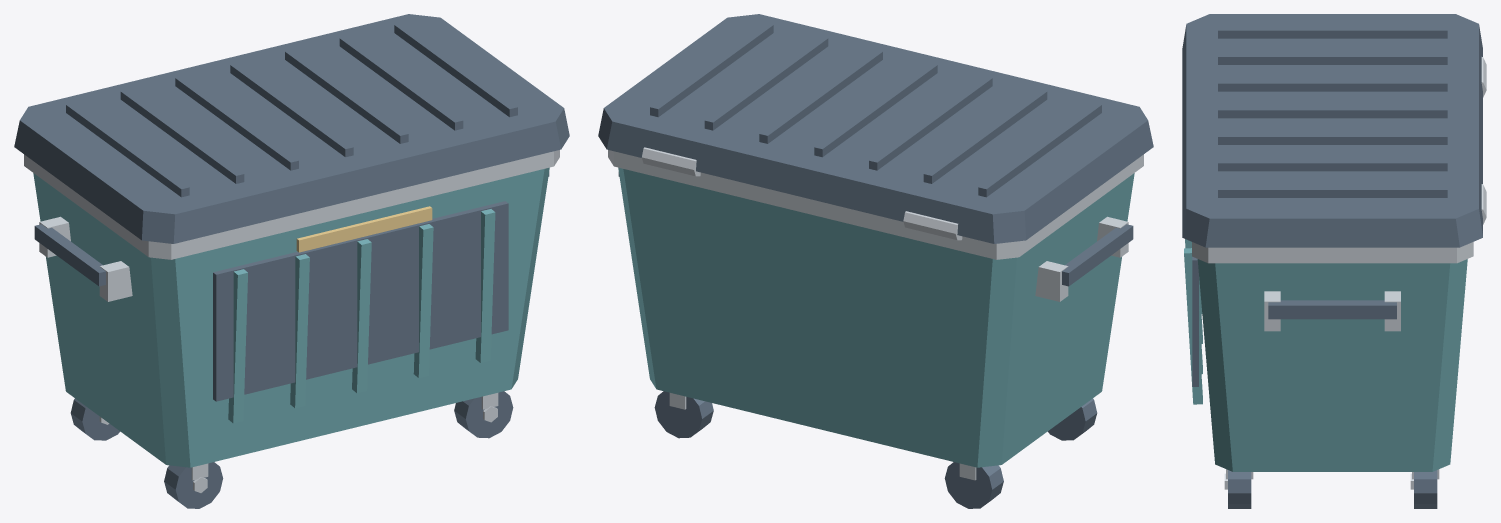
File: dumpster.glb
3 views of the same model, side by side, from view 1: azimuth 30°, elevation 25°; view 2: azimuth 150°, elevation 25°; view 3: azimuth 270°, elevation 25° (orthographic).
Visible parts, largest first — view 1: dumpster_lid, dumpster_bin, dumpster_front_panel, dumpster_top_rim, dumpster_front_channel, dumpster_front_channel.001, dumpster_front_channel.002, dumpster_front_reflector, dumpster_front_channel.003, dumpster_lid_rib.001, dumpster_lid_rib.005, dumpster_front_channel.004 (+10 smaller); view 2: dumpster_bin, dumpster_lid, dumpster_top_rim, dumpster_lid_rib.001, dumpster_lid_rib.005, dumpster_lid_rib.002, dumpster_lid_rib.003, dumpster_lid_rib, dumpster_lid_rib.004, dumpster_lid_rib.006, dumpster_wheel.001, dumpster_wheel.003 (+5 smaller); view 3: dumpster_lid, dumpster_bin, dumpster_top_rim, dumpster_lid_rib, dumpster_lid_rib.002, dumpster_lid_rib.003, dumpster_lid_rib.004, dumpster_lid_rib.005, dumpster_lid_rib.001, dumpster_lid_rib.006, dumpster_lifting_handle.001, dumpster_front_channel.004 (+5 smaller).
Boxes of the visible parts, x1,y1,x2,y2 form: dumpster_lid: [14, 14, 569, 243]; dumpster_bin: [33, 167, 549, 467]; dumpster_front_panel: [213, 201, 508, 401]; dumpster_top_rim: [24, 150, 559, 259]; dumpster_front_channel: [228, 269, 247, 423]; dumpster_front_channel.001: [290, 254, 309, 408]; dumpster_front_channel.002: [352, 239, 371, 393]; dumpster_front_reflector: [296, 206, 432, 252]; dumpster_front_channel.003: [413, 224, 433, 377]; dumpster_lid_rib.001: [120, 89, 244, 183]; dumpster_lid_rib.005: [339, 36, 463, 130]; dumpster_front_channel.004: [475, 209, 495, 362]; dumpster_bin: [618, 167, 1134, 467]; dumpster_lid: [598, 14, 1153, 243]; dumpster_top_rim: [608, 150, 1143, 259]; dumpster_lid_rib.001: [923, 89, 1047, 183]; dumpster_lid_rib.005: [704, 36, 828, 130]; dumpster_lid_rib.002: [869, 76, 992, 170]; dumpster_lid_rib.003: [814, 63, 937, 157]; dumpster_lid_rib: [978, 103, 1101, 197]; dumpster_lid_rib.004: [759, 49, 882, 143]; dumpster_lid_rib.006: [650, 23, 773, 117]; dumpster_wheel.001: [944, 462, 1003, 508]; dumpster_wheel.003: [654, 391, 713, 438]; dumpster_lid: [1182, 14, 1482, 247]; dumpster_bin: [1197, 259, 1467, 471]; dumpster_top_rim: [1192, 242, 1473, 263]; dumpster_lid_rib: [1218, 26, 1447, 38]; dumpster_lid_rib.002: [1218, 79, 1447, 91]; dumpster_lid_rib.003: [1218, 106, 1447, 118]; dumpster_lid_rib.004: [1218, 132, 1447, 144]; dumpster_lid_rib.005: [1218, 159, 1447, 171]; dumpster_lid_rib.001: [1218, 53, 1447, 64]; dumpster_lid_rib.006: [1218, 186, 1447, 197]; dumpster_lifting_handle.001: [1268, 300, 1396, 319]; dumpster_front_channel.004: [1184, 248, 1202, 404].
Size of the model in its own units: 1.89 by 1.32 by 1.11.
